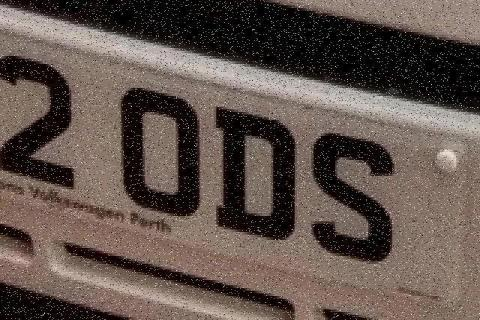LicensePlate: (0, 12, 467, 312)
